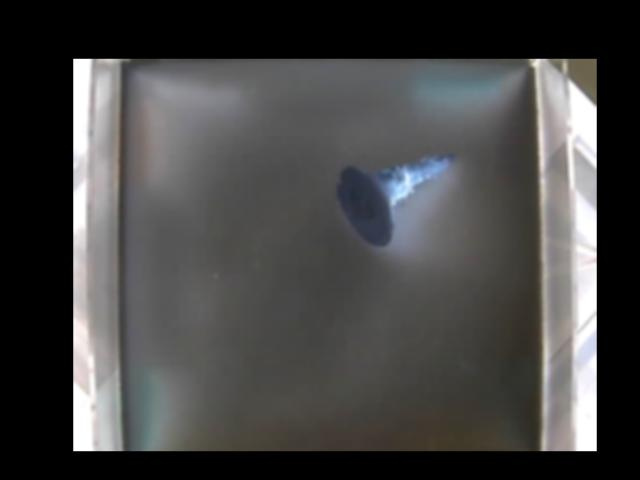Mooli: (336, 153, 456, 249)
